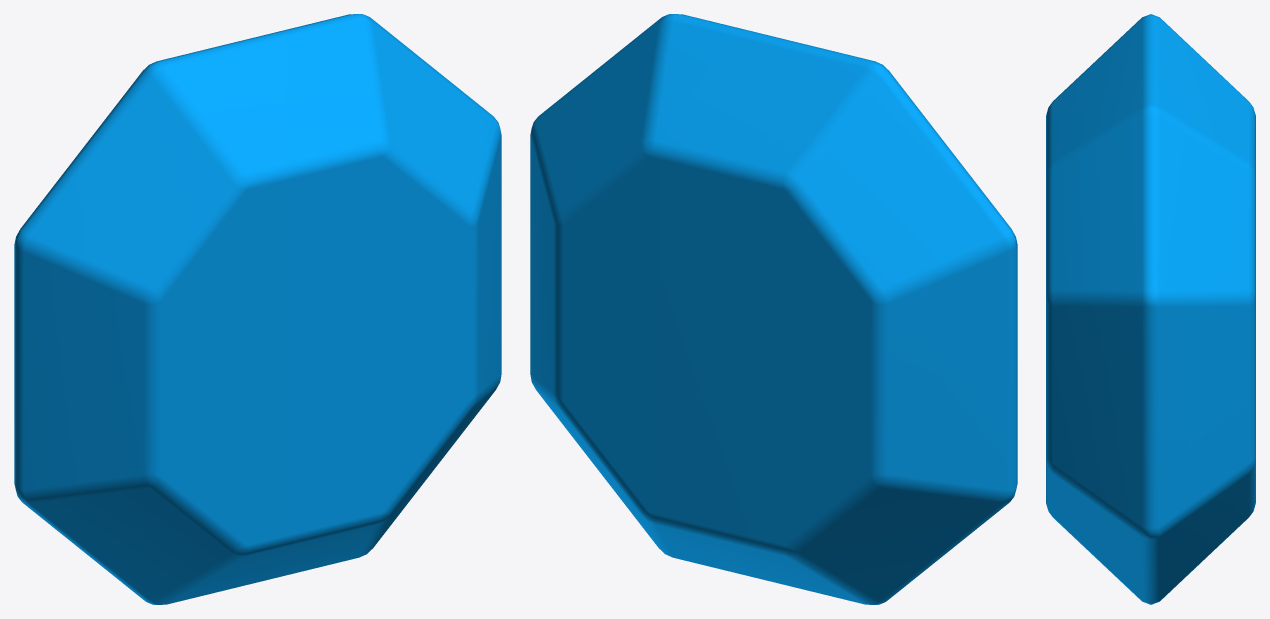
The picture shows the model from 3 angles, left to right: view 1: azimuth 30°, elevation 25°; view 2: azimuth 150°, elevation 25°; view 3: azimuth 270°, elevation 25°; orthographic projection. The views are drawn at different scales.
Visible parts, largest first — view 1: model_0.095; view 2: model_0.095; view 3: model_0.095.
Part boxes in pixels (x1,y1,x2,y2): model_0.095: (14, 14, 501, 604); model_0.095: (530, 14, 1017, 604); model_0.095: (1046, 14, 1255, 604).
Bounding box in the file's own units: 3.3 × 3.54 × 1.35.
